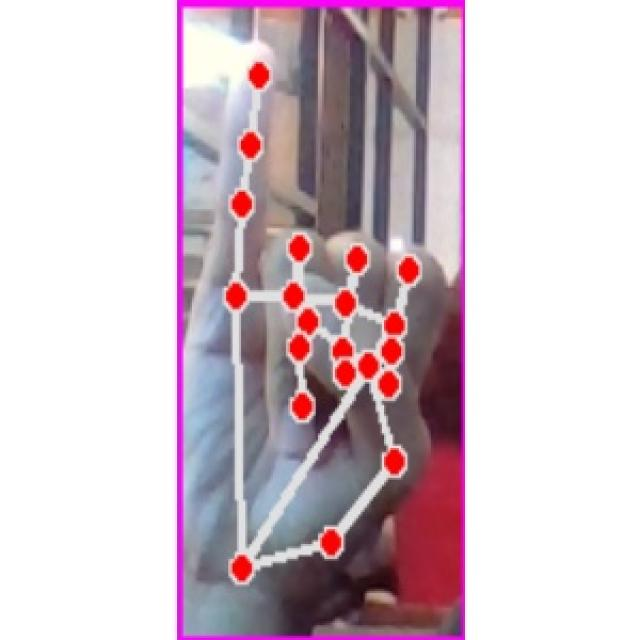I: (185, 40, 456, 616)
